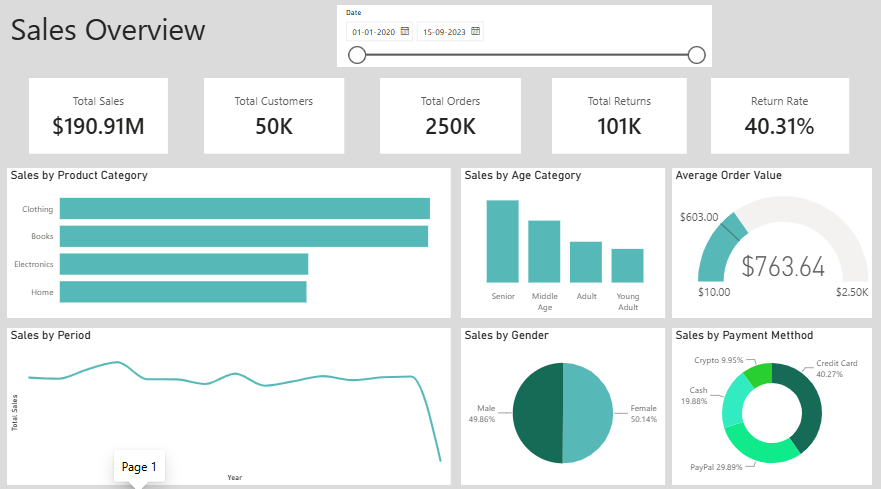

The dashboard page shown, as its layout file describes it:
{"tool":"powerbi","page":{"name":"Sales","canvas":[1280,720],"ordinal":0},"visuals":[{"type":"barChart","title":"Sales by Product Category","fields":{"Category":["transactions.product_category"],"Y":["Sum(transactions.total_price)"]},"box":[17.3,249.1,639.4,216],"z":0},{"type":"lineChart","title":"Sales by Period","fields":{"Y":["Sum(transactions.total_price)"],"Category":["transactions.purchase_date.Variation.Date Hierarchy.Year","transactions.purchase_date.Variation.Date Hierarchy.Quarter","transactions.purchase_date.Variation.Date Hierarchy.Month","transactions.purchase_date.Variation.Date Hierarchy.Day"]},"box":[17.3,479.5,639.4,226.1],"z":1000},{"type":"pieChart","title":"Sales by Gender","fields":{"Category":["transactions.gender"],"Y":["Sum(transactions.total_price)"]},"box":[671,479.5,293.8,226.1],"z":2000},{"type":"columnChart","title":"Sales by Age Category","fields":{"Y":["Sum(transactions.total_price)"],"Category":["customer_table.age_category"]},"box":[671,249.1,293.8,216],"z":3000},{"type":"donutChart","title":"Sales by Payment Metthod","fields":{"Y":["Sum(transactions.total_price)"],"Category":["transactions.payment_method"]},"box":[974.9,479.5,288,226.1],"z":4000},{"type":"cardVisual","fields":{"Data":["_Measures.Total Sales"]},"box":[49,119.5,200.2,109.4],"z":5000},{"type":"cardVisual","fields":{"Data":["_Measures.Total Customers"]},"box":[301,119.5,201.6,109.4],"z":6000},{"type":"cardVisual","fields":{"Data":["_Measures.Total Orders"]},"box":[554.4,119.5,203,109.4],"z":7000},{"type":"cardVisual","fields":{"Data":["_Measures.Return Rate"]},"box":[1031,119.5,198.7,109.4],"z":8000},{"type":"gauge","title":"Average Order Value","fields":{"Y":["Avg(transactions.total_price)"],"MinValue":["Min(transactions.total_price)1"],"MaxValue":["Max(transactions.total_price)2"],"TargetValue":["Median(transactions.total_price)3"]},"box":[974.9,249.1,288,216],"z":9000},{"type":"slicer","fields":{"Values":["transactions.purchase_date"]},"box":[492.5,14.4,538.6,87.8],"z":10000},{"type":"textbox","box":[17.3,14.4,332.6,74.9],"z":12000},{"type":"cardVisual","fields":{"Data":["_Measures.Total Returns"]},"box":[802.1,119.5,194.4,109.4],"z":13000}]}

Visuals, with their boxes in screenshot pixels (x1, y1, x2, y2), scaled from the page's 1280x720 canvas onto the 881x489 screenshot:
"Sales by Product Category" barChart: (x1=12, y1=169, x2=452, y2=316)
"Sales by Period" lineChart: (x1=12, y1=326, x2=452, y2=479)
"Sales by Gender" pieChart: (x1=462, y1=326, x2=664, y2=479)
"Sales by Age Category" columnChart: (x1=462, y1=169, x2=664, y2=316)
"Sales by Payment Metthod" donutChart: (x1=671, y1=326, x2=869, y2=479)
cardVisual - _Measures.Total Sales: (x1=34, y1=81, x2=172, y2=155)
cardVisual - _Measures.Total Customers: (x1=207, y1=81, x2=346, y2=155)
cardVisual - _Measures.Total Orders: (x1=382, y1=81, x2=521, y2=155)
cardVisual - _Measures.Return Rate: (x1=710, y1=81, x2=846, y2=155)
"Average Order Value" gauge: (x1=671, y1=169, x2=869, y2=316)
slicer - transactions.purchase_date: (x1=339, y1=10, x2=710, y2=69)
textbox: (x1=12, y1=10, x2=241, y2=61)
cardVisual - _Measures.Total Returns: (x1=552, y1=81, x2=686, y2=155)
